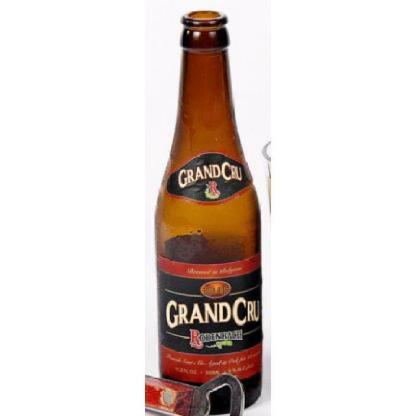Can: (155, 11, 262, 416)
